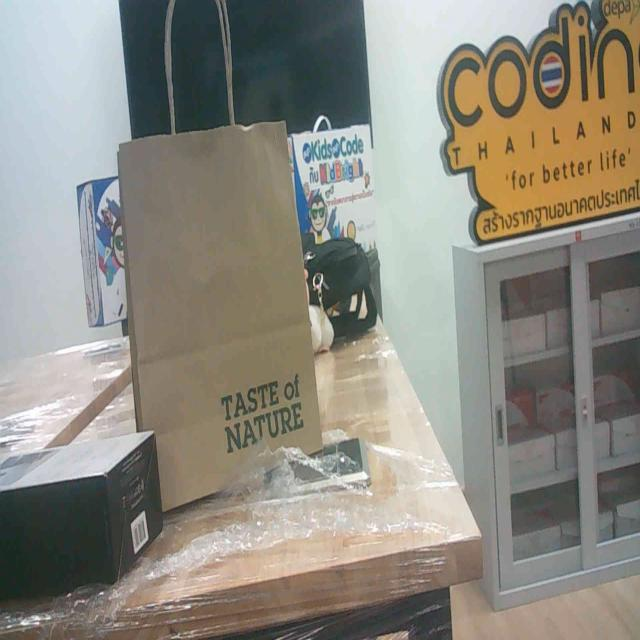bag: (110, 129, 339, 505)
